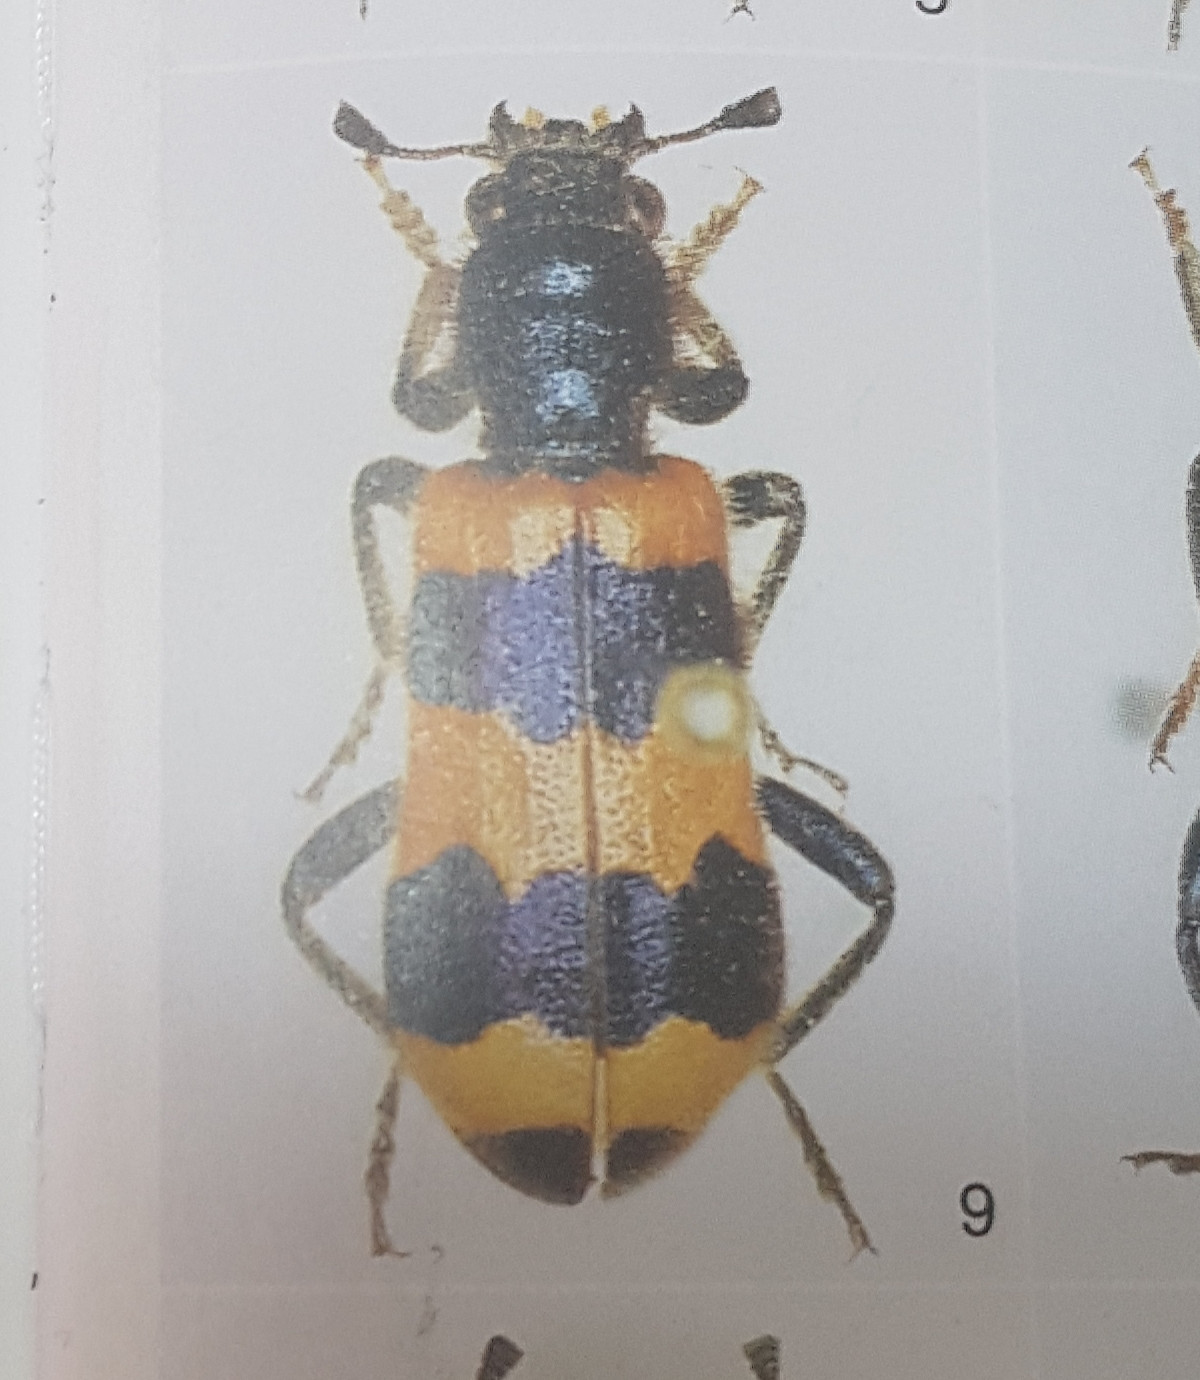trichodes_apiarius: (252, 45, 941, 1287)
